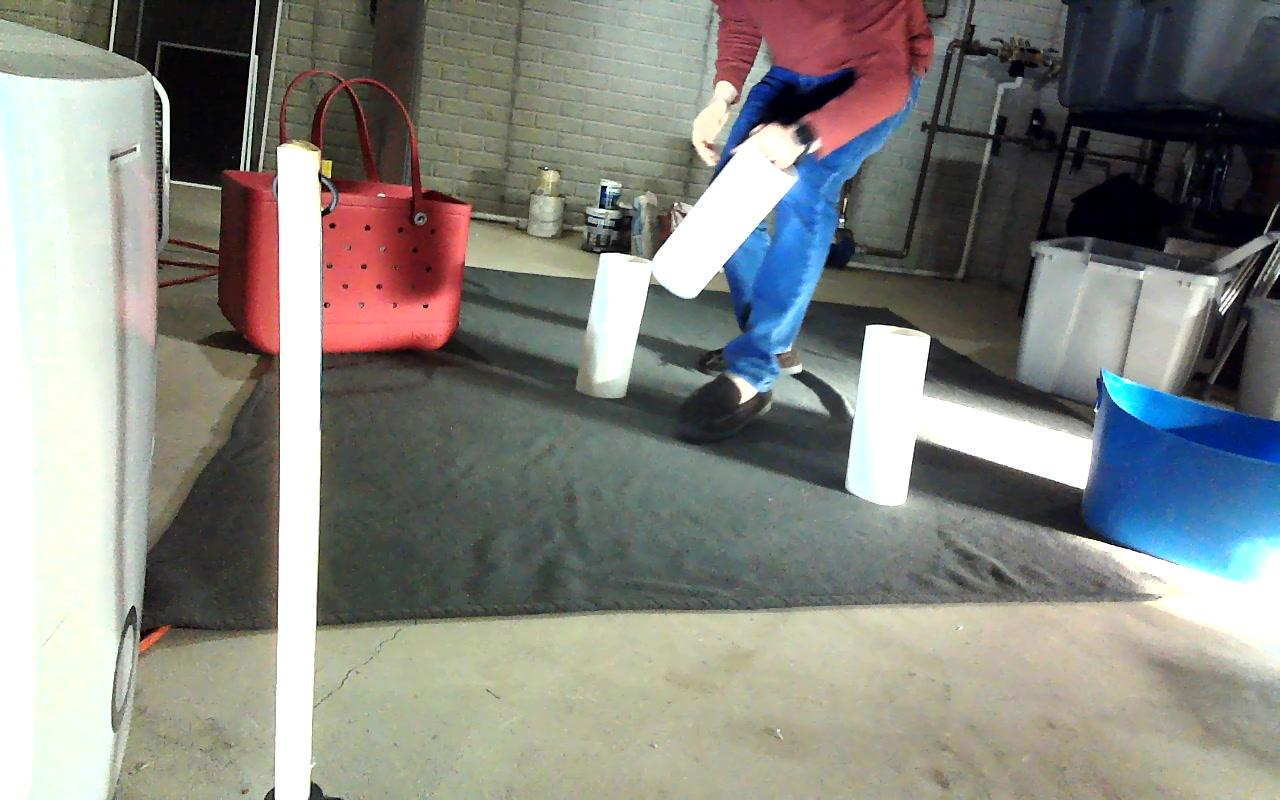coral: (653, 147, 797, 298), (844, 323, 930, 504), (580, 252, 651, 397)
